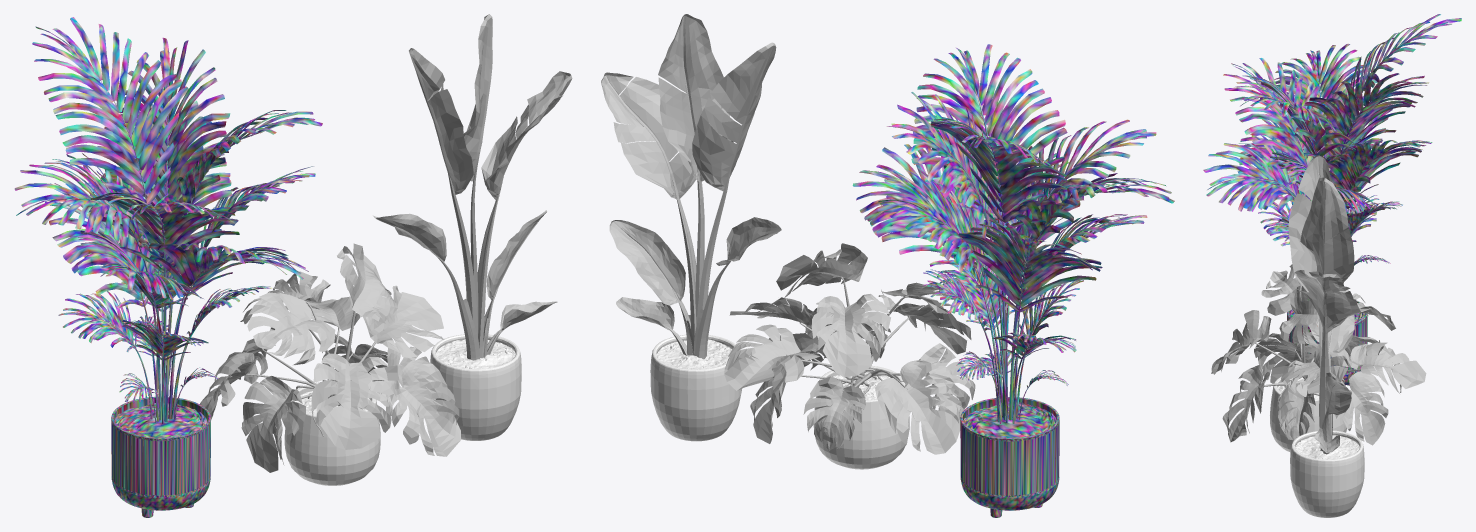
3 views of the same model, side by side, from view 1: azimuth 30°, elevation 25°; view 2: azimuth 150°, elevation 25°; view 3: azimuth 270°, elevation 25° (orthographic). The views are drawn at different scales.
Visible parts, largest first — view 1: ARECA_PALM_ARECA_PALM_Mat_0, MONSTERA_BIG_MONSTERA_BIG_Mat.002_0, STRELITZIA_NICOLAI_STRELITZIA_NICOLAI_Mat_0, B_TERRACOTTA_PLANTER_VAR02_B_TERRACOTTA_PLANTER_Mat_VAR02_0, POT_CONCRETE_POT_CONCRETE_Mat_0, POT_PATTERN_CERAMIC_01_POT_PATTERN_CERAMIC_OVALE_MAT_0; view 2: ARECA_PALM_ARECA_PALM_Mat_0, STRELITZIA_NICOLAI_STRELITZIA_NICOLAI_Mat_0, MONSTERA_BIG_MONSTERA_BIG_Mat.002_0, B_TERRACOTTA_PLANTER_VAR02_B_TERRACOTTA_PLANTER_Mat_VAR02_0, POT_CONCRETE_POT_CONCRETE_Mat_0, POT_PATTERN_CERAMIC_01_POT_PATTERN_CERAMIC_OVALE_MAT_0; view 3: ARECA_PALM_ARECA_PALM_Mat_0, MONSTERA_BIG_MONSTERA_BIG_Mat.002_0, STRELITZIA_NICOLAI_STRELITZIA_NICOLAI_Mat_0, POT_CONCRETE_POT_CONCRETE_Mat_0, POT_PATTERN_CERAMIC_01_POT_PATTERN_CERAMIC_OVALE_MAT_0, B_TERRACOTTA_PLANTER_VAR02_B_TERRACOTTA_PLANTER_Mat_VAR02_0.
Boxes of the visible parts, bbox=[...] form: ARECA_PALM_ARECA_PALM_Mat_0: bbox=[14, 17, 322, 423]; MONSTERA_BIG_MONSTERA_BIG_Mat.002_0: bbox=[200, 243, 461, 472]; STRELITZIA_NICOLAI_STRELITZIA_NICOLAI_Mat_0: bbox=[373, 14, 572, 360]; B_TERRACOTTA_PLANTER_VAR02_B_TERRACOTTA_PLANTER_Mat_VAR02_0: bbox=[111, 396, 210, 517]; POT_CONCRETE_POT_CONCRETE_Mat_0: bbox=[430, 334, 521, 440]; POT_PATTERN_CERAMIC_01_POT_PATTERN_CERAMIC_OVALE_MAT_0: bbox=[284, 382, 380, 485]; ARECA_PALM_ARECA_PALM_Mat_0: bbox=[852, 44, 1174, 423]; STRELITZIA_NICOLAI_STRELITZIA_NICOLAI_Mat_0: bbox=[601, 14, 781, 359]; MONSTERA_BIG_MONSTERA_BIG_Mat.002_0: bbox=[724, 243, 975, 454]; B_TERRACOTTA_PLANTER_VAR02_B_TERRACOTTA_PLANTER_Mat_VAR02_0: bbox=[960, 397, 1059, 517]; POT_CONCRETE_POT_CONCRETE_Mat_0: bbox=[650, 334, 741, 441]; POT_PATTERN_CERAMIC_01_POT_PATTERN_CERAMIC_OVALE_MAT_0: bbox=[813, 366, 909, 469]; ARECA_PALM_ARECA_PALM_Mat_0: bbox=[1203, 14, 1461, 283]; MONSTERA_BIG_MONSTERA_BIG_Mat.002_0: bbox=[1211, 264, 1426, 445]; STRELITZIA_NICOLAI_STRELITZIA_NICOLAI_Mat_0: bbox=[1288, 155, 1360, 454]; POT_CONCRETE_POT_CONCRETE_Mat_0: bbox=[1290, 430, 1364, 517]; POT_PATTERN_CERAMIC_01_POT_PATTERN_CERAMIC_OVALE_MAT_0: bbox=[1270, 375, 1346, 451]; B_TERRACOTTA_PLANTER_VAR02_B_TERRACOTTA_PLANTER_Mat_VAR02_0: bbox=[1287, 299, 1367, 385].
Size of the model in its own units: 298 by 222 by 146.
